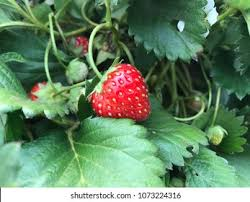ripe: (86, 64, 153, 120), (25, 75, 59, 107), (69, 32, 96, 53)
unripe: (205, 124, 229, 149), (66, 60, 89, 84)
